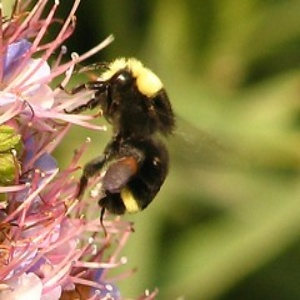bee: (99, 55, 180, 223)
